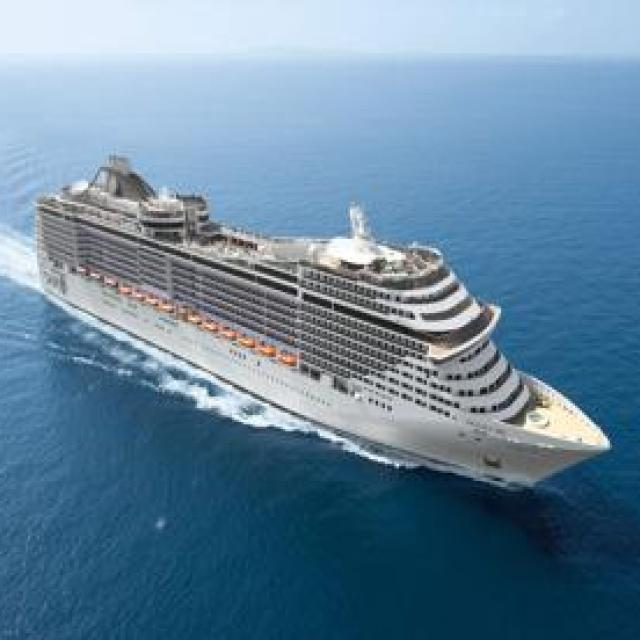passenger ship: (31, 149, 610, 487)
